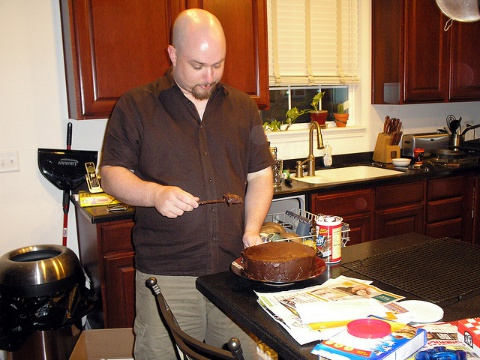hand: (152, 185, 199, 220)
